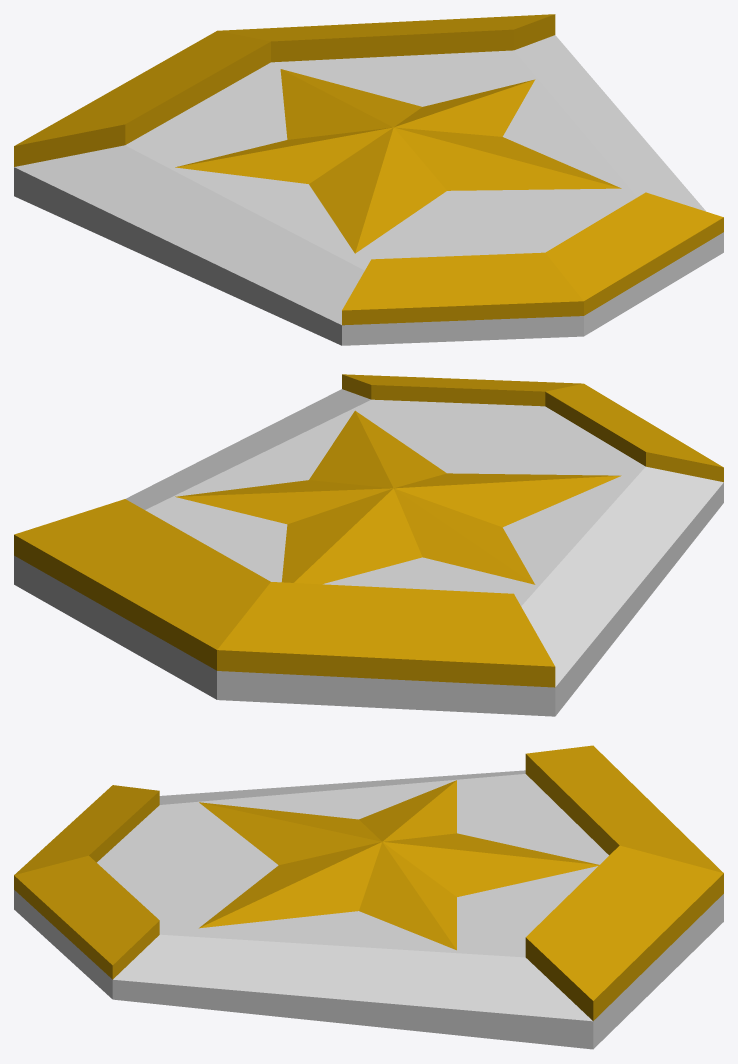
Rendered from eMBLEM.fbx.
3 renders of one model, top to bottom at view 1: azimuth 30°, elevation 25°; view 2: azimuth 150°, elevation 25°; view 3: azimuth 270°, elevation 25°, orthographic. The views are drawn at different scales.
Visible parts, largest first — view 1: Plane; view 2: Plane; view 3: Plane.
Boxes of the visible parts, x1,y1,x2,y2 form: Plane: (14, 14, 723, 345); Plane: (14, 374, 723, 716); Plane: (14, 745, 723, 1049).
Bounding box in the file's own units: 403 × 58.48 × 473.
